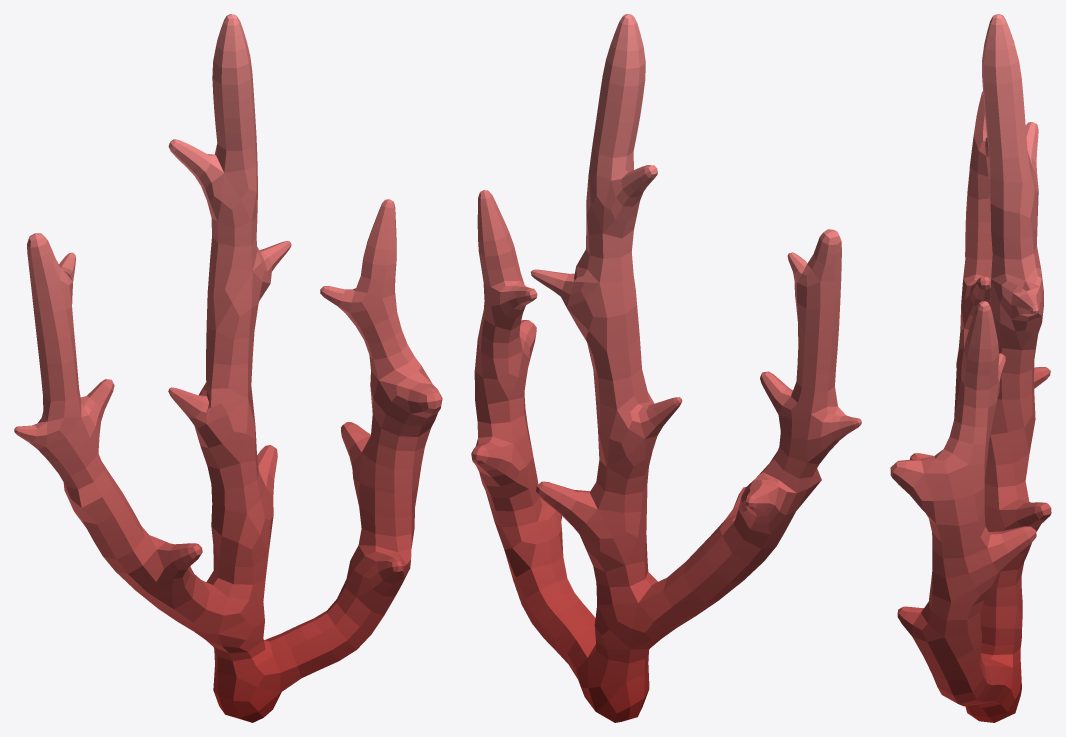
Rendered from Object_Coral_04.fbx.
3 renders of one model, left to right at view 1: azimuth 30°, elevation 25°; view 2: azimuth 150°, elevation 25°; view 3: azimuth 270°, elevation 25°, orthographic.
Visible parts, largest first — view 1: CoralTubes.001; view 2: CoralTubes.001; view 3: CoralTubes.001.
Part boxes in pixels (x1=…): CoralTubes.001: x1=14, y1=14, x2=442, y2=722; CoralTubes.001: x1=471, y1=14, x2=861, y2=722; CoralTubes.001: x1=890, y1=14, x2=1051, y2=722.
Size of the model in its own units: 429 by 732 by 153.
